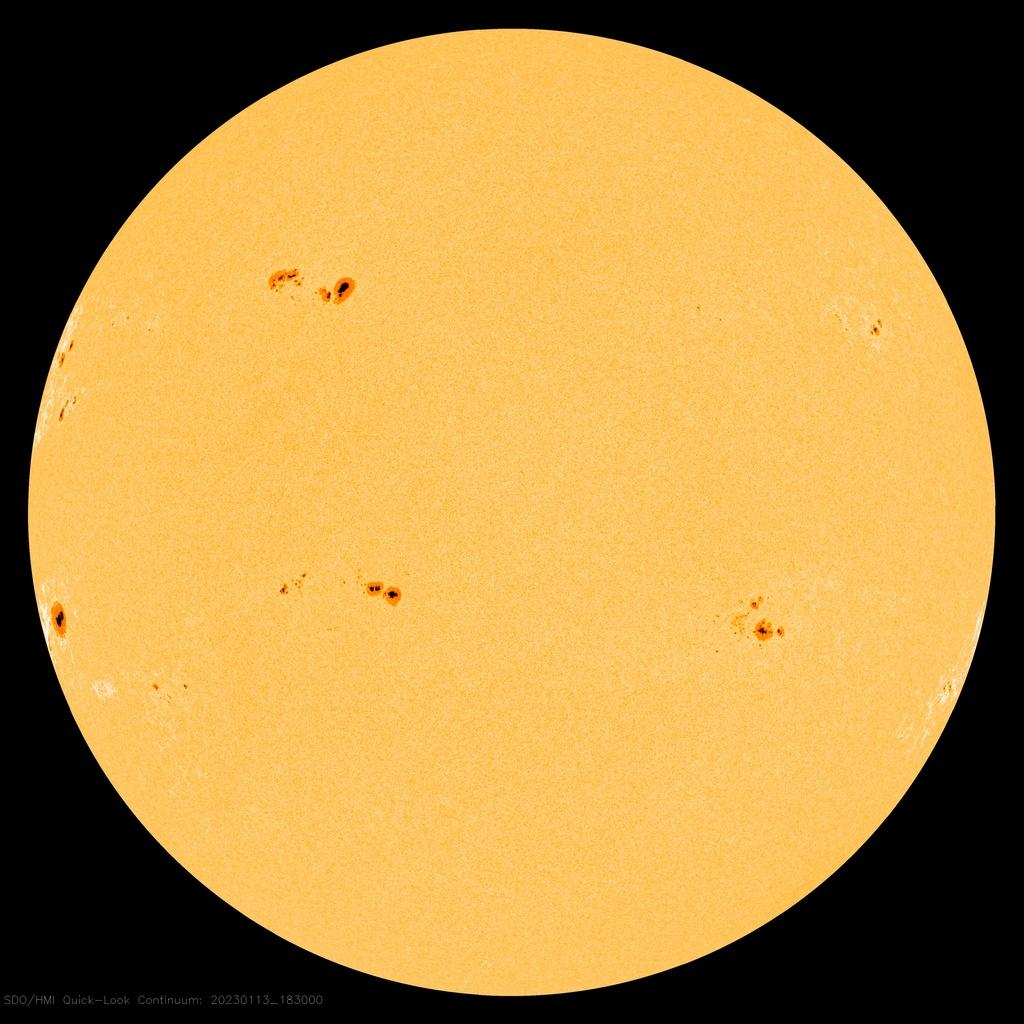flare: (270, 562, 409, 619), (257, 261, 363, 321), (721, 585, 795, 655), (47, 328, 87, 434), (144, 664, 198, 704), (44, 593, 74, 650), (858, 307, 895, 346)
